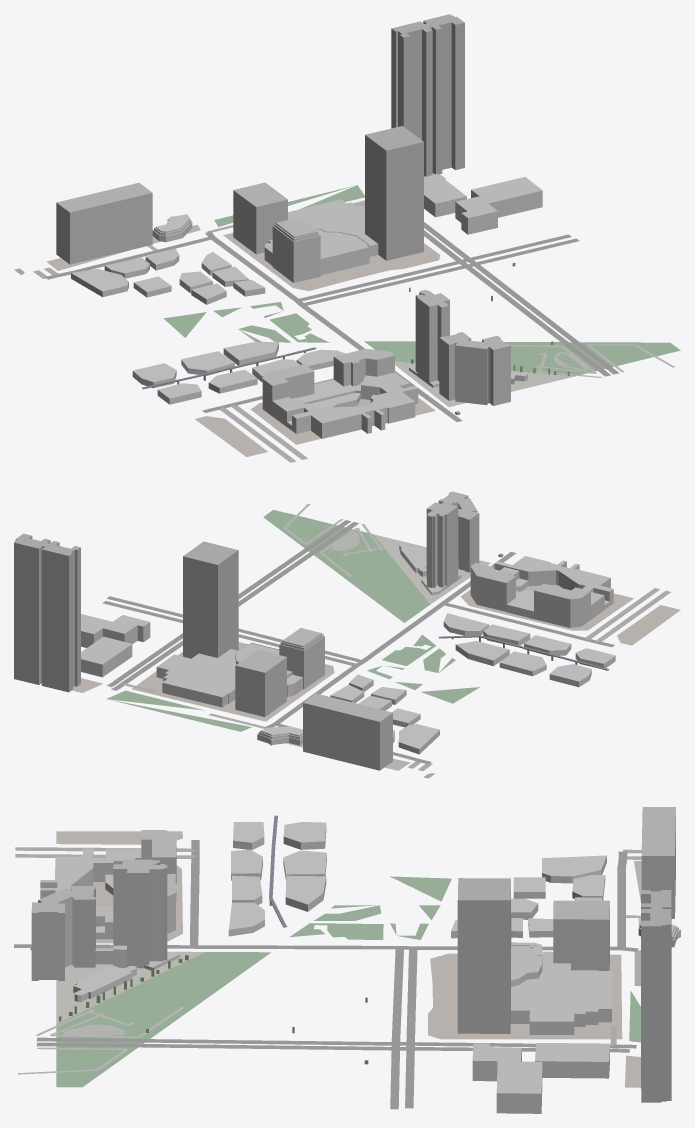
3 renders of one model, top to bottom at view 1: azimuth 30°, elevation 25°; view 2: azimuth 150°, elevation 25°; view 3: azimuth 270°, elevation 25°, orthographic. The views are drawn at different scales.
Bounding box in the file's own units: 567 × 161 × 548.
